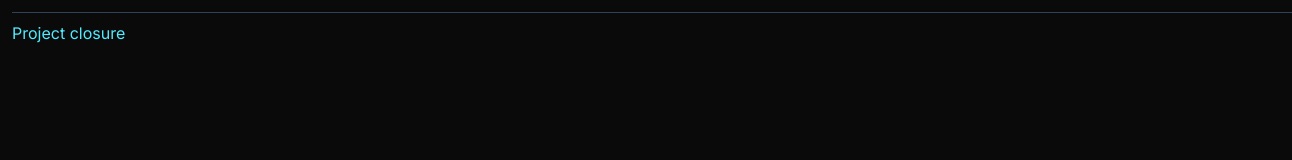
Scenario: does not convert a failed read into an empty record
What coordinates should you click on to do the following:
click the button "Project closure"
I would click on:
 (69, 33)
Its box is [12,21,125,45].
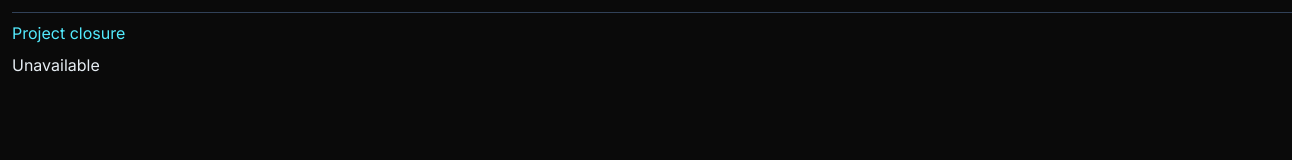
Check: the message reads "Unavailable", box [12,55,100,75]
